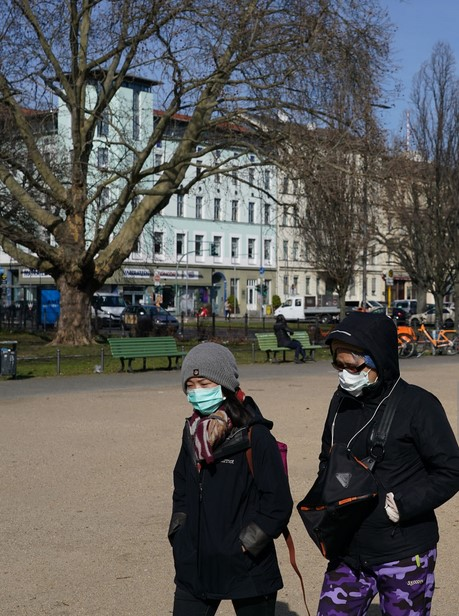face_with_mask: (179, 341, 234, 420), (328, 344, 384, 402)
